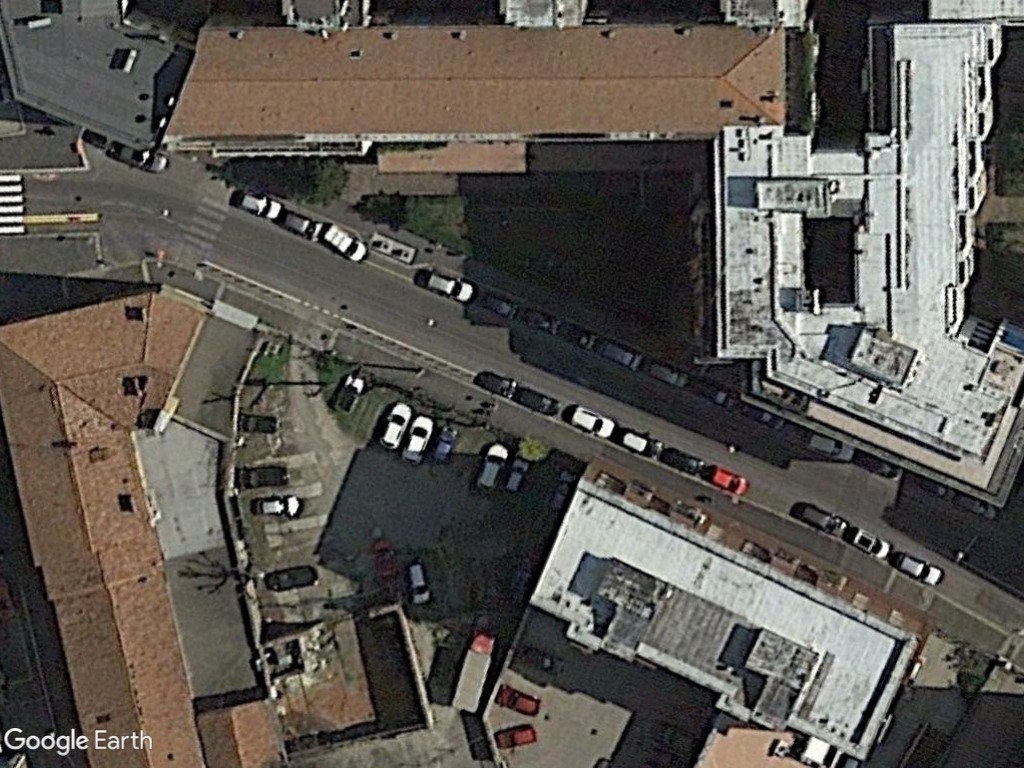car: (473, 437, 511, 498), (798, 428, 857, 467), (795, 498, 851, 539), (420, 266, 478, 305), (893, 547, 948, 588), (230, 183, 285, 223), (396, 407, 432, 468), (375, 397, 412, 455), (566, 400, 618, 441), (595, 334, 648, 373), (846, 521, 894, 564), (703, 458, 752, 500), (616, 422, 667, 461), (495, 680, 541, 721), (278, 203, 320, 244), (403, 560, 436, 609), (489, 723, 538, 754)
truck: (446, 628, 508, 715)
van: (320, 217, 368, 264)
